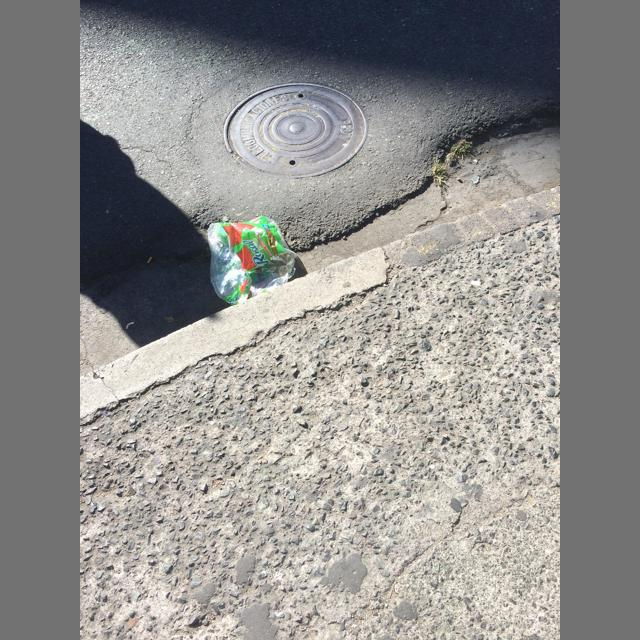litter: (207, 216, 297, 306), (471, 175, 479, 183), (147, 257, 152, 264)
